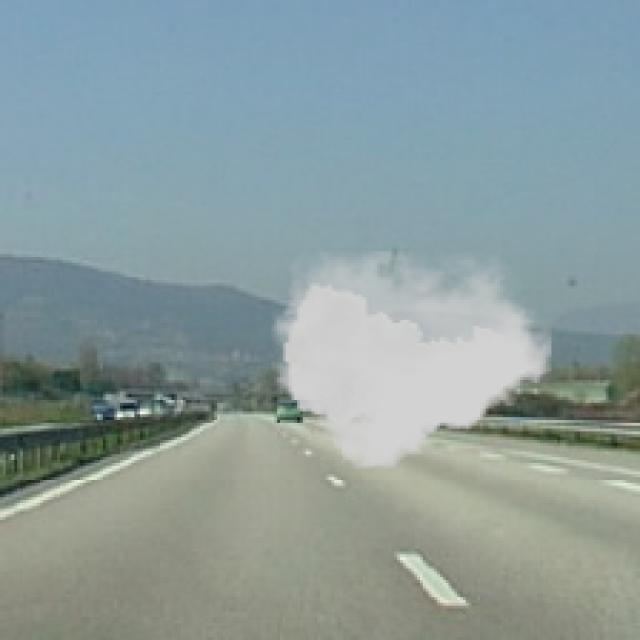smoke: (272, 252, 552, 468)
